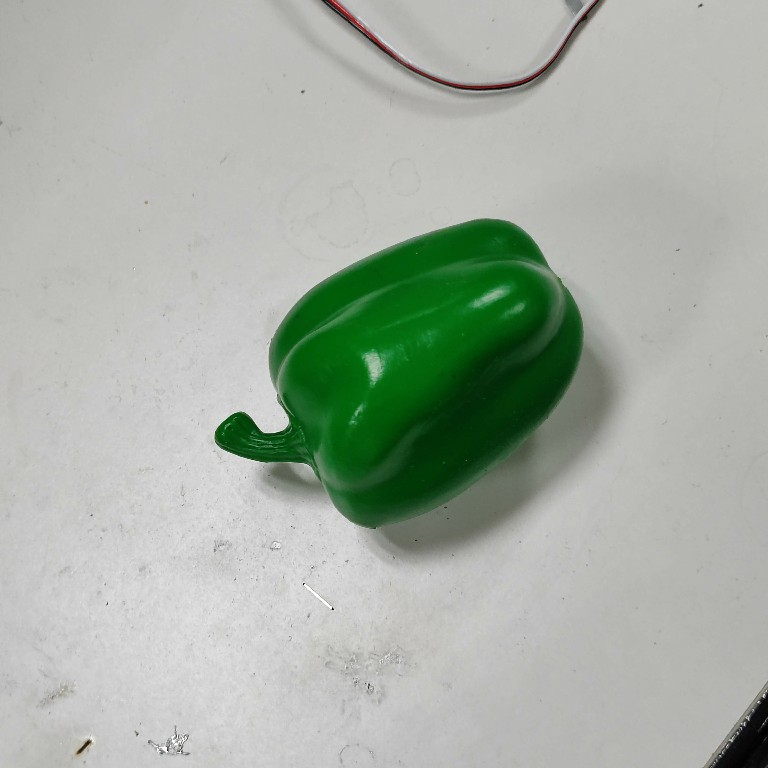fruit_pepper: (213, 213, 588, 532)
